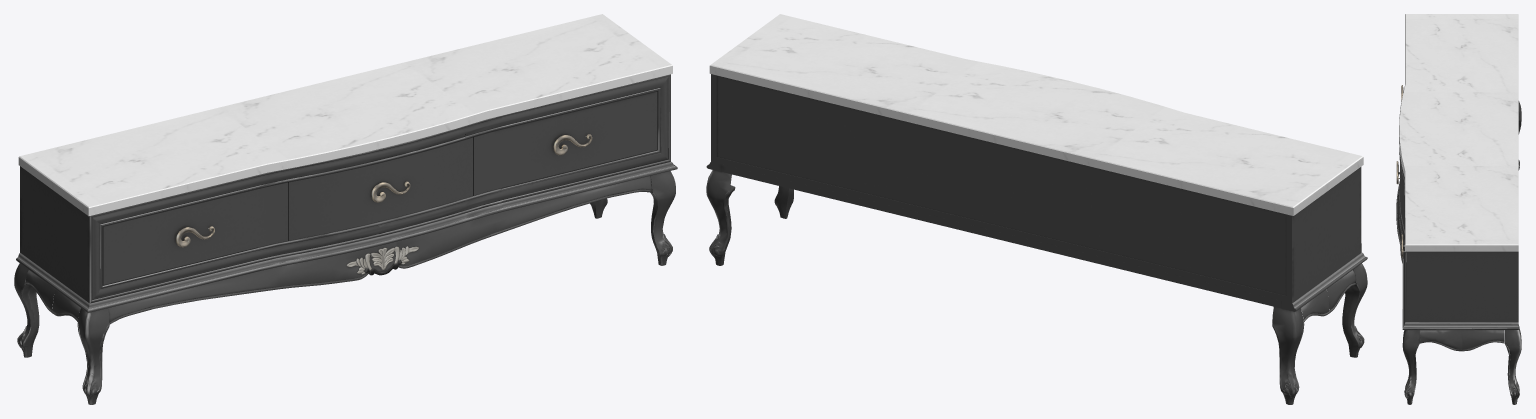
File: raw_model.obj
3 views of the same model, side by side, from view 1: azimuth 30°, elevation 25°; view 2: azimuth 150°, elevation 25°; view 3: azimuth 270°, elevation 25° (orthographic). The views are drawn at different scales.
Parts seen in each view (by area): view 1: solid_003, solid_002, solid_001, solid_005; view 2: solid_003, solid_002; view 3: solid_002, solid_003, solid_001.
Part boxes in pixels (left/top/right/bottom): solid_003: left=14, top=74, right=677, bottom=404; solid_002: left=18, top=14, right=672, bottom=216; solid_001: left=176, top=134, right=592, bottom=247; solid_005: left=346, top=246, right=418, bottom=274; solid_003: left=706, top=74, right=1367, bottom=404; solid_002: left=709, top=14, right=1363, bottom=215; solid_002: left=1399, top=14, right=1518, bottom=251; solid_003: left=1396, top=101, right=1521, bottom=404; solid_001: left=1396, top=85, right=1403, bottom=257.
Bounding box in the file's own units: 1.72 × 0.5553 × 0.3905.
Materials: 1 (1 with a texture image).
